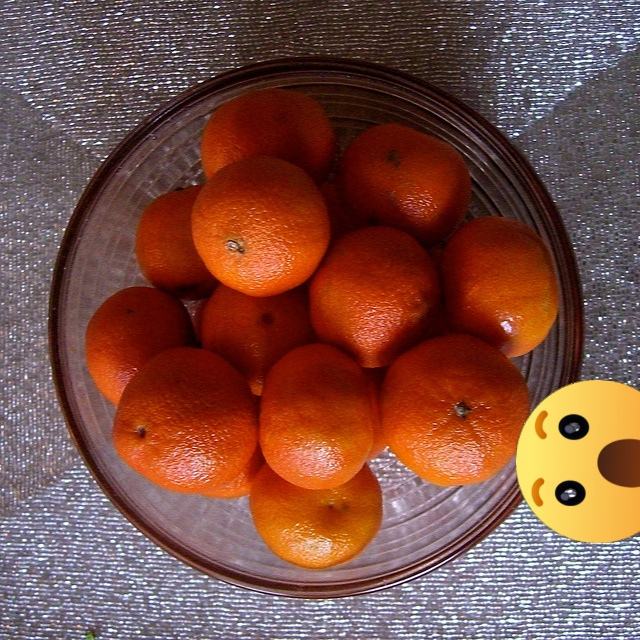wow: (516, 380, 640, 543)
